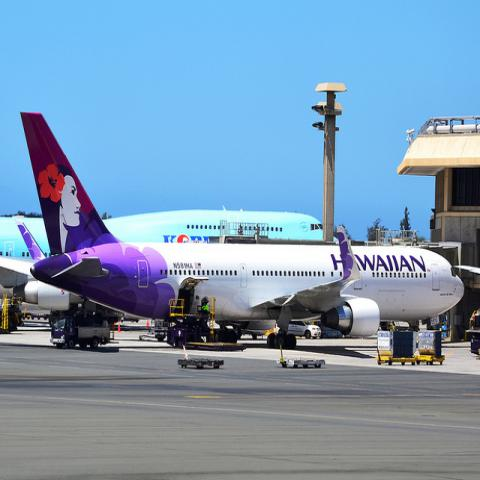car: (287, 320, 320, 340)
truck: (50, 316, 119, 350)
